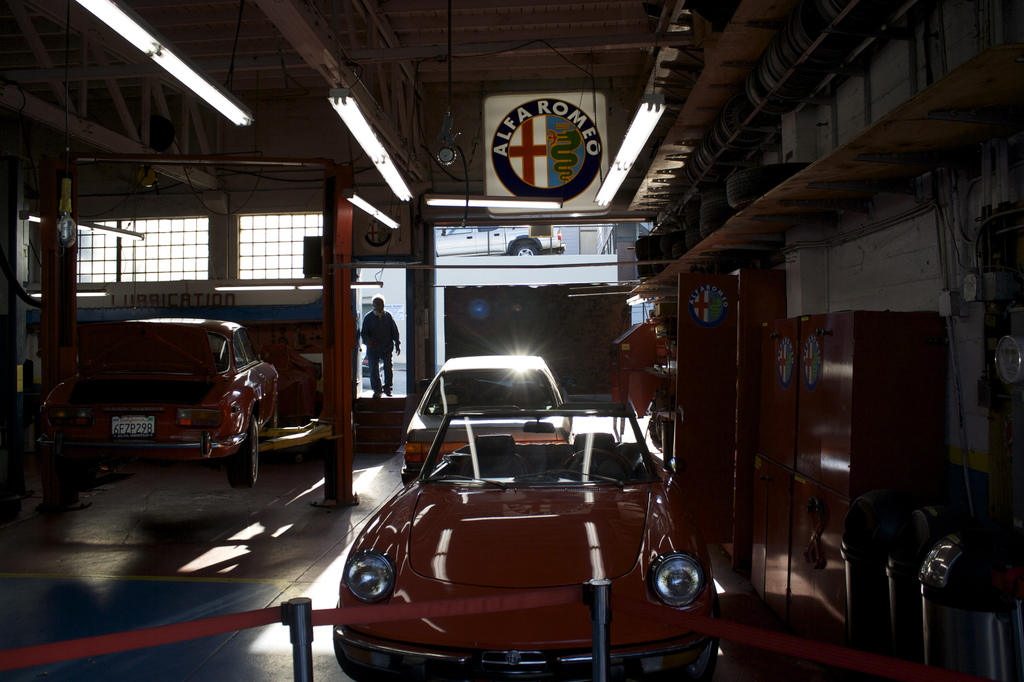Car: (331, 416, 719, 681), (29, 315, 277, 486), (398, 347, 563, 484)
